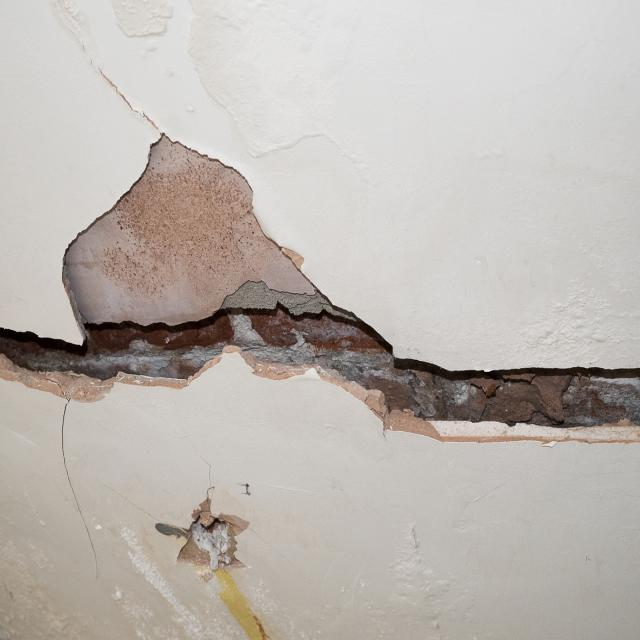Wall_Cracks: (7, 78, 640, 607)
